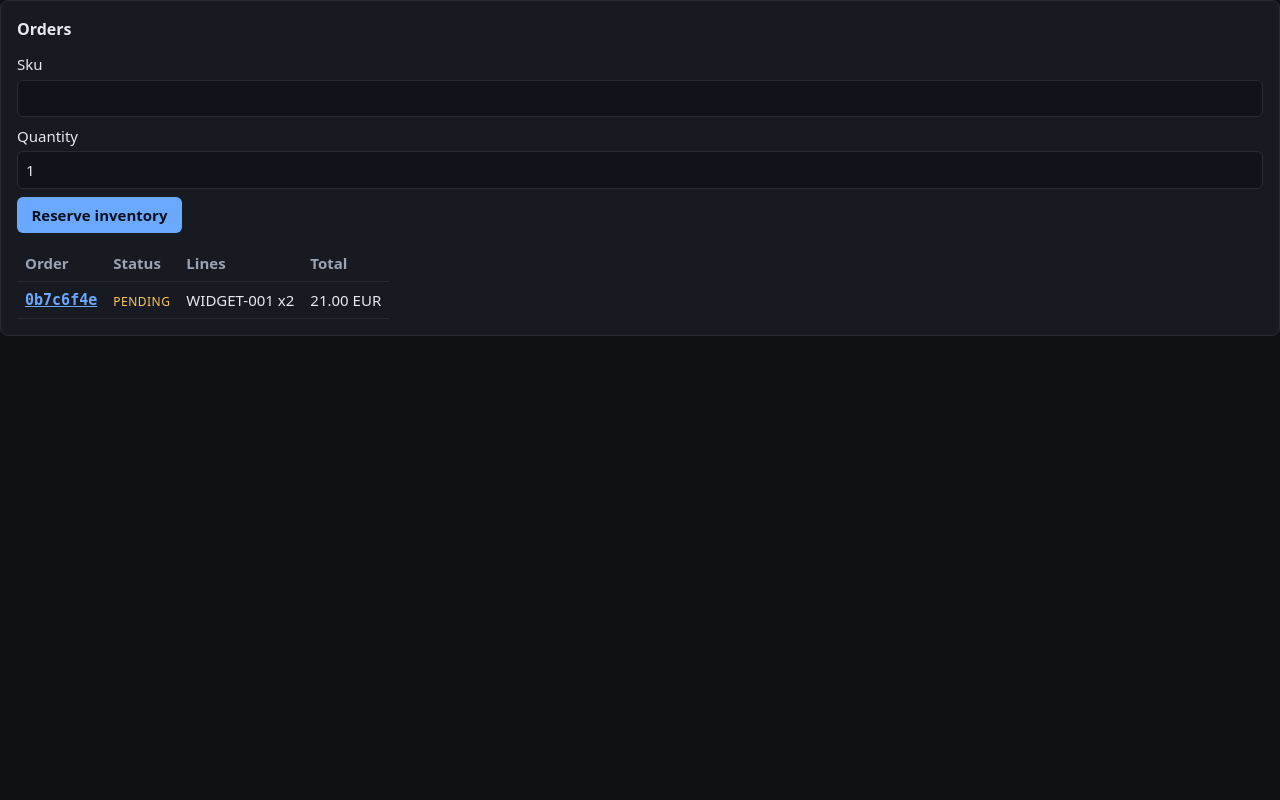
Test: OrdersPanel when a refresh fails › returns focus to the row when the detail closes
The image size is (1280, 800).
Click the button "0b7c6f4e". click: [61, 300]
box: x1=25 y1=288 x2=97 y2=312
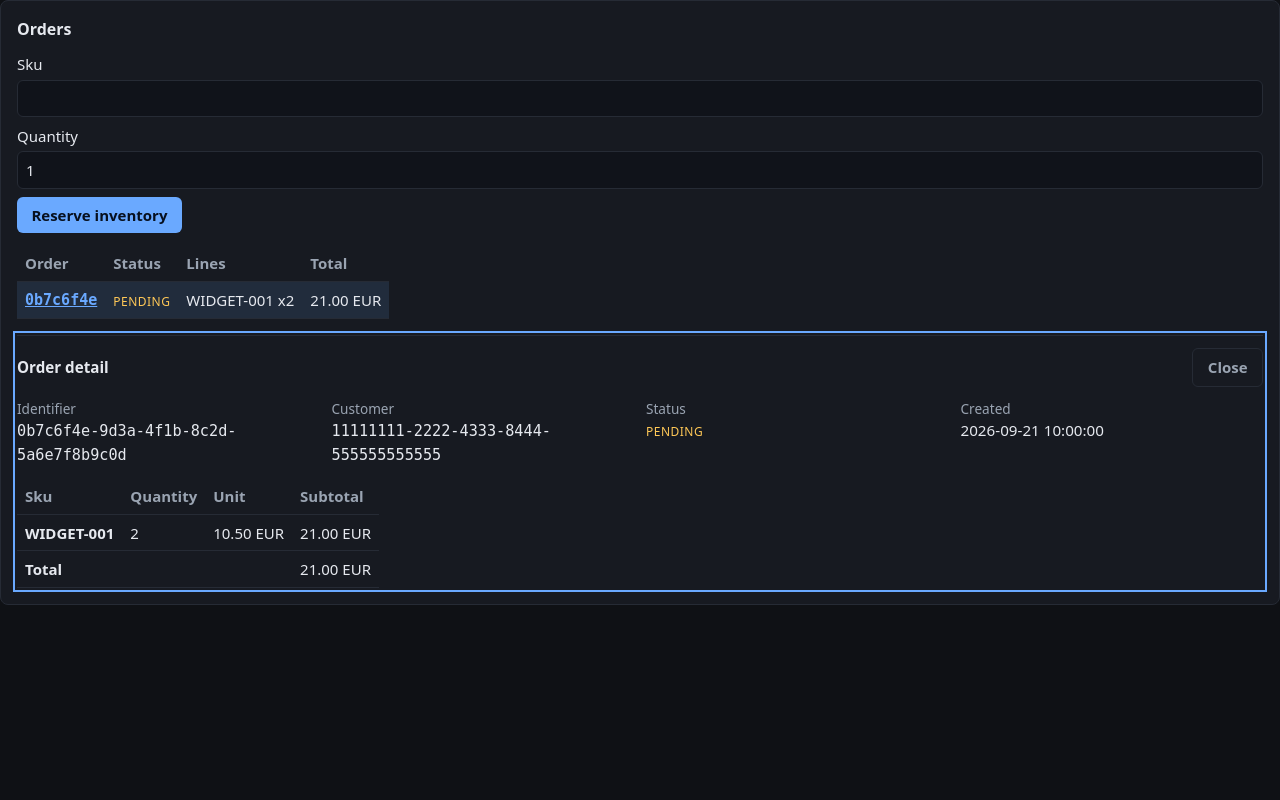
expect the element "Order detail" is shown: met, box x1=17 y1=335 x2=1263 y2=588
Press Escape
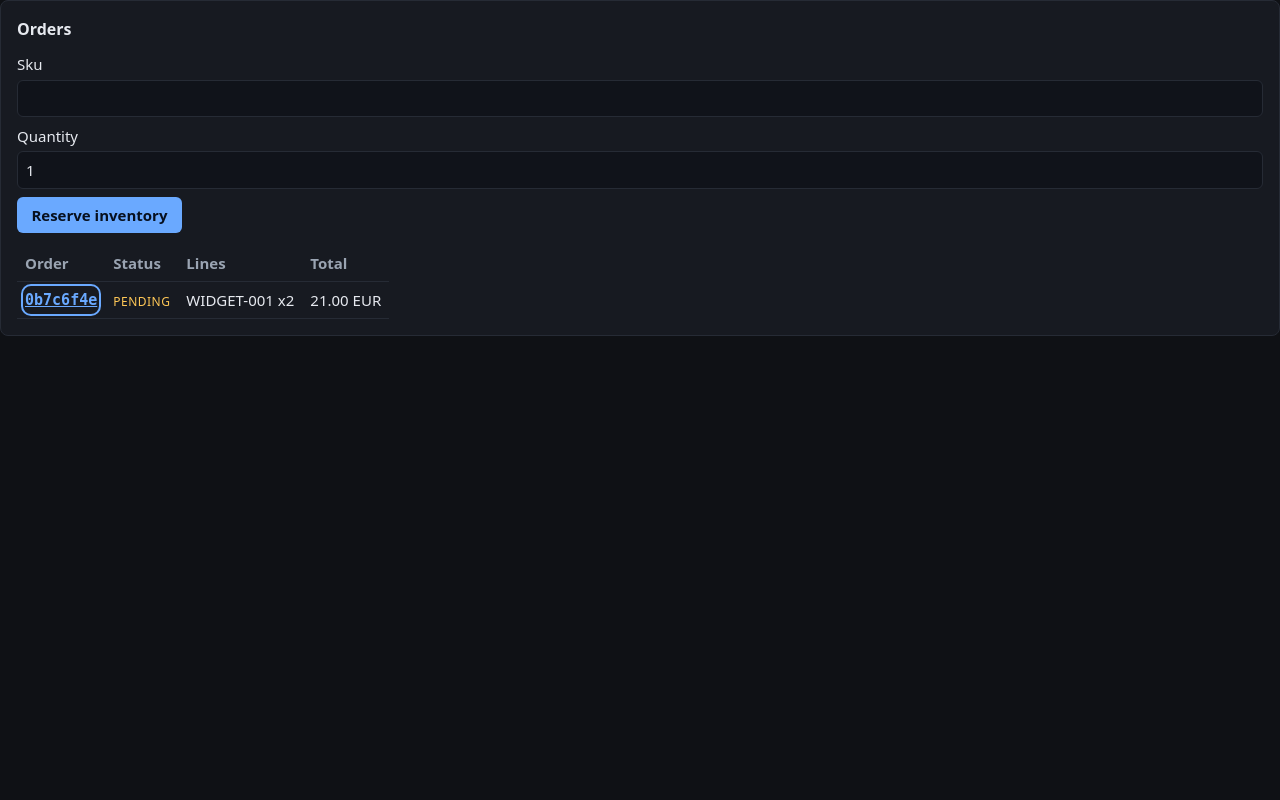
expect the heading "Order detail" is gone: met
